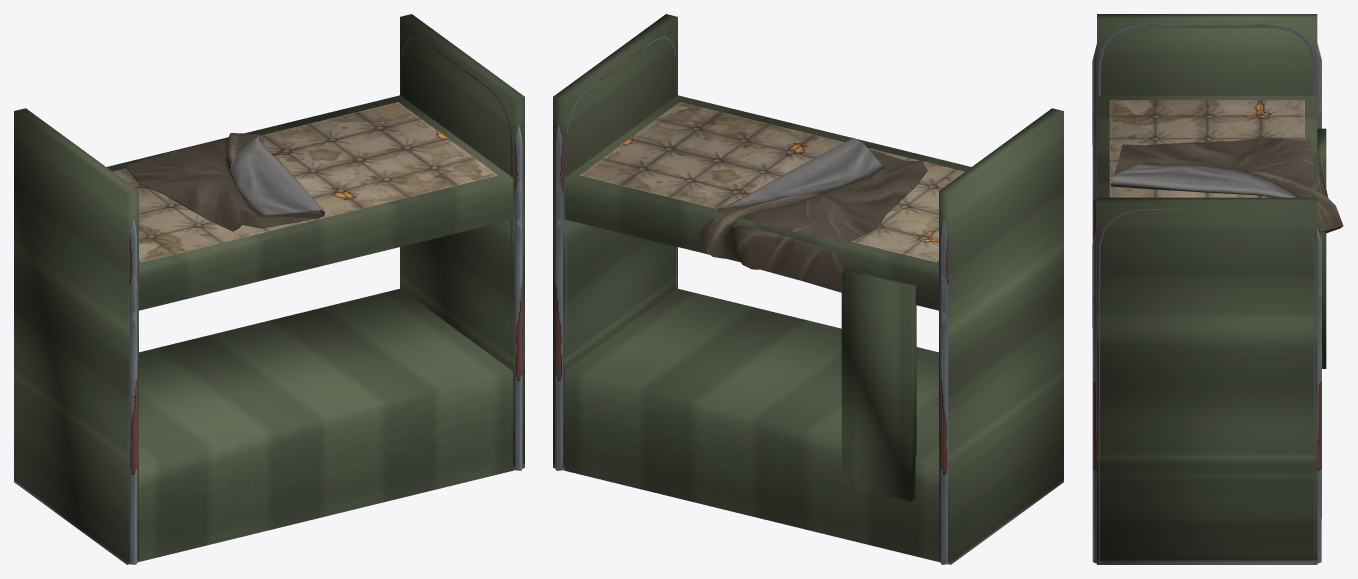
The model's file is bed04_C.fbx.
3 renders of one model, left to right at view 1: azimuth 30°, elevation 25°; view 2: azimuth 150°, elevation 25°; view 3: azimuth 270°, elevation 25°, orthographic. The views are drawn at different scales.
Parts seen in each view (by area): view 1: bed04_C_COL, bed04_C; view 2: bed04_C_COL, bed04_C; view 3: bed04_C_COL, bed04_C.
Part boxes in pixels (left/top/right/bottom): bed04_C_COL: left=14, top=14, right=524, bottom=564; bed04_C: left=113, top=36, right=523, bottom=564; bed04_C_COL: left=553, top=14, right=1063, bottom=564; bed04_C: left=554, top=36, right=964, bottom=564; bed04_C_COL: left=1097, top=14, right=1326, bottom=564; bed04_C: left=1092, top=24, right=1343, bottom=564.
Size of the model in its own units: 216 by 192 by 121.
